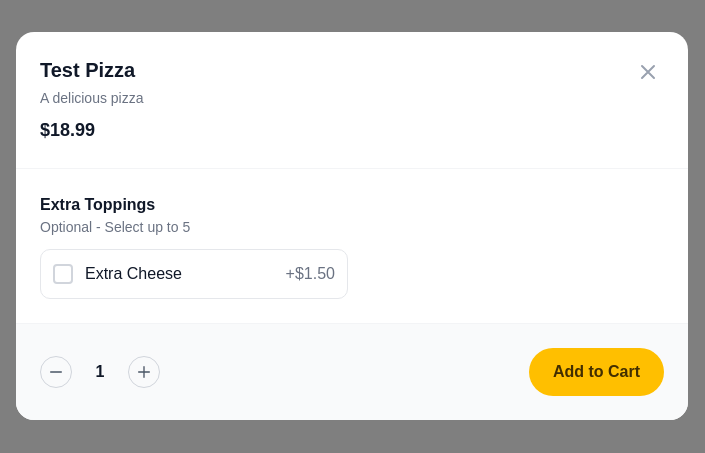
ModifierModal › quantity selection › should show quantity selector when allowQuantity is true and modifier is selected
The width and height of the screenshot is (705, 453).
# Select the modifier
Click the text "Extra Cheese". click: (194, 274)
box: [40,249,348,299]
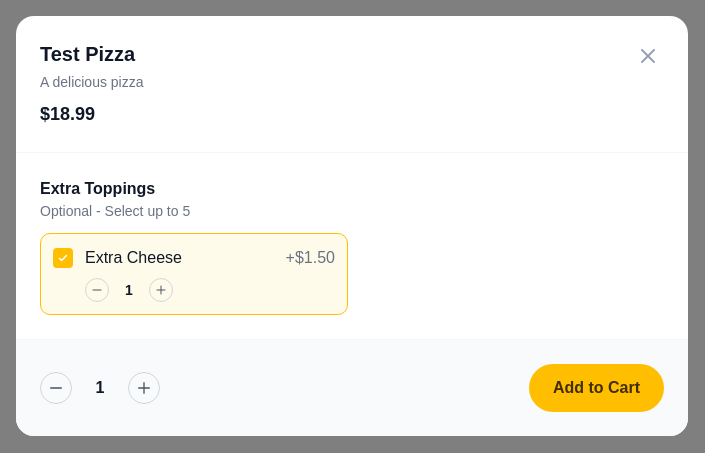
Expected: the number of buttons named "Decrease quantity" is 2, [85,278,109,302]; [40,372,72,404]
